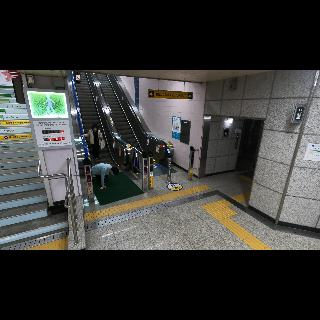anomaly: (90, 162, 120, 190)
normal: (80, 124, 104, 160)
